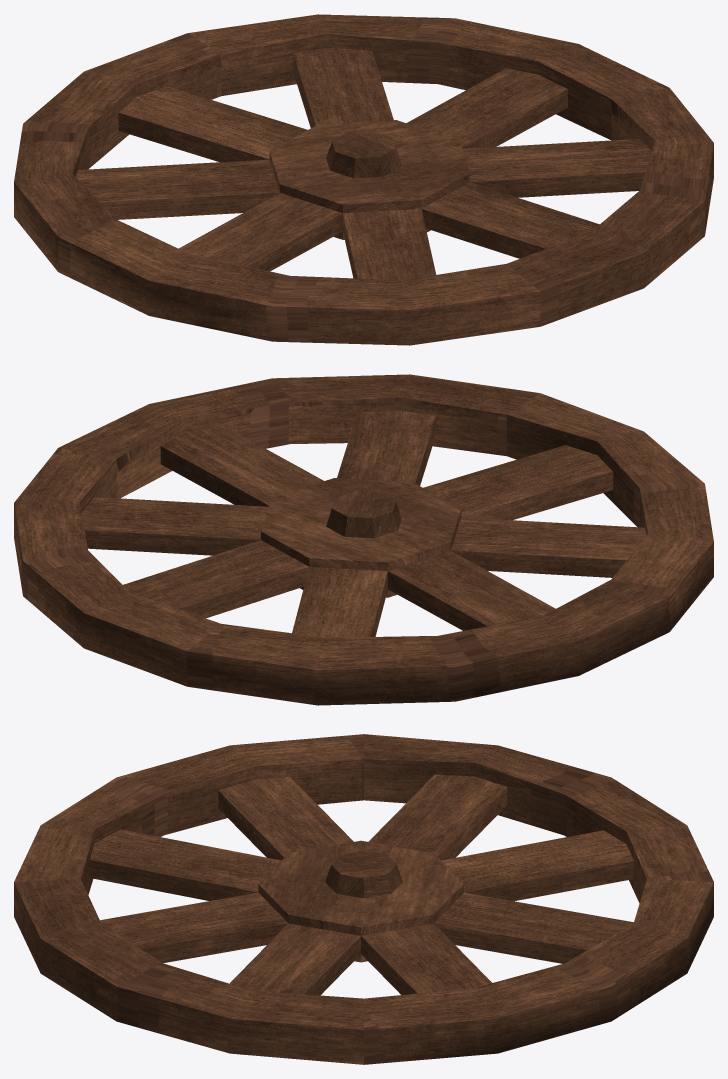
File: Wheel.fbx
3 renders of one model, top to bottom at view 1: azimuth 30°, elevation 25°; view 2: azimuth 150°, elevation 25°; view 3: azimuth 270°, elevation 25°, orthographic.
Visible parts, largest first — view 1: Wheel; view 2: Wheel; view 3: Wheel.
Boxes of the visible parts, <box> form: Wheel: <box>14,14,713,345</box>; Wheel: <box>14,374,713,705</box>; Wheel: <box>14,734,713,1064</box>.
Size of the model in its own units: 2.81 by 0.2543 by 2.81.
1 material, 1 textured.
